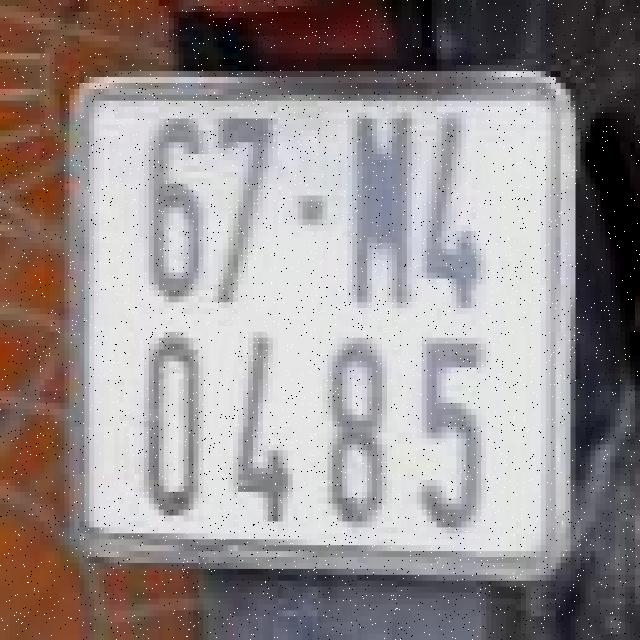0: (144, 335, 228, 536)
4: (243, 332, 323, 539), (427, 92, 501, 305)
5: (424, 317, 514, 513)
6: (129, 122, 213, 317)
7: (213, 121, 283, 323)
8: (337, 332, 417, 521)
M: (347, 104, 427, 311)
